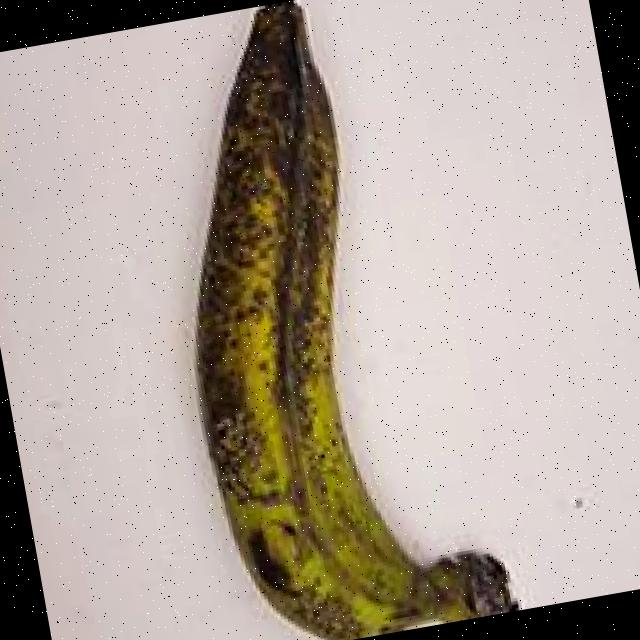Overripe: (79, 0, 544, 640)
